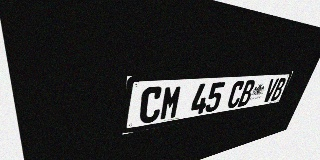4: (189, 83, 212, 115)
5: (204, 82, 226, 113)
B: (237, 80, 256, 107), (270, 78, 287, 101)
C: (138, 86, 164, 125), (226, 81, 246, 109)
M: (159, 85, 183, 121)
V: (262, 78, 279, 103)
